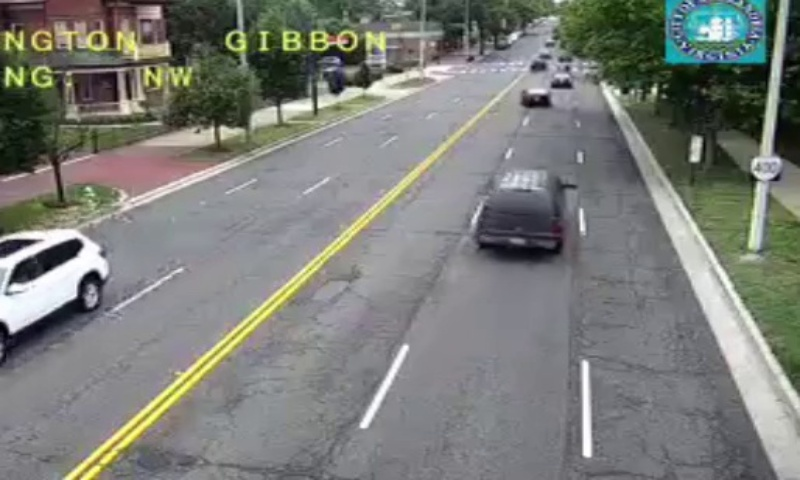car: (476, 170, 564, 252), (521, 89, 552, 108)
